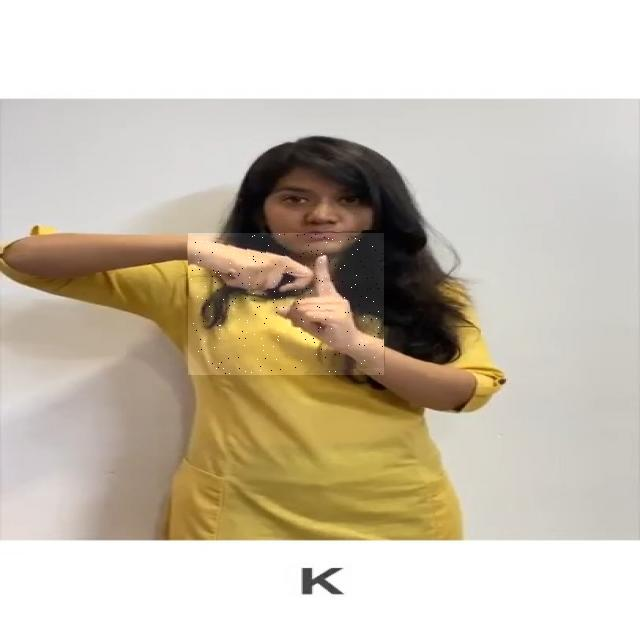K: (188, 233, 384, 375)
